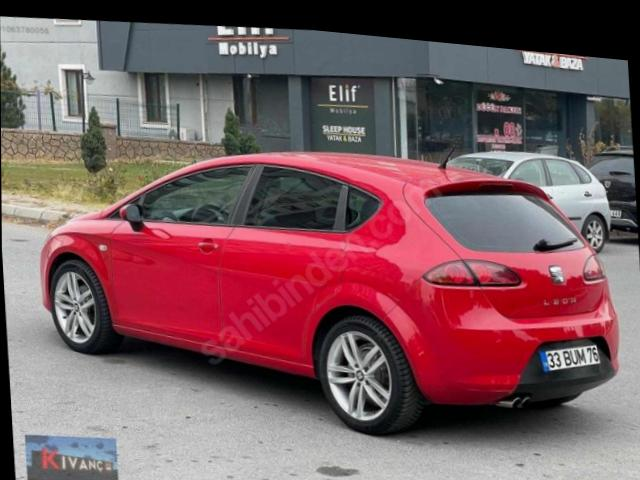plaka: (539, 345, 600, 371)
